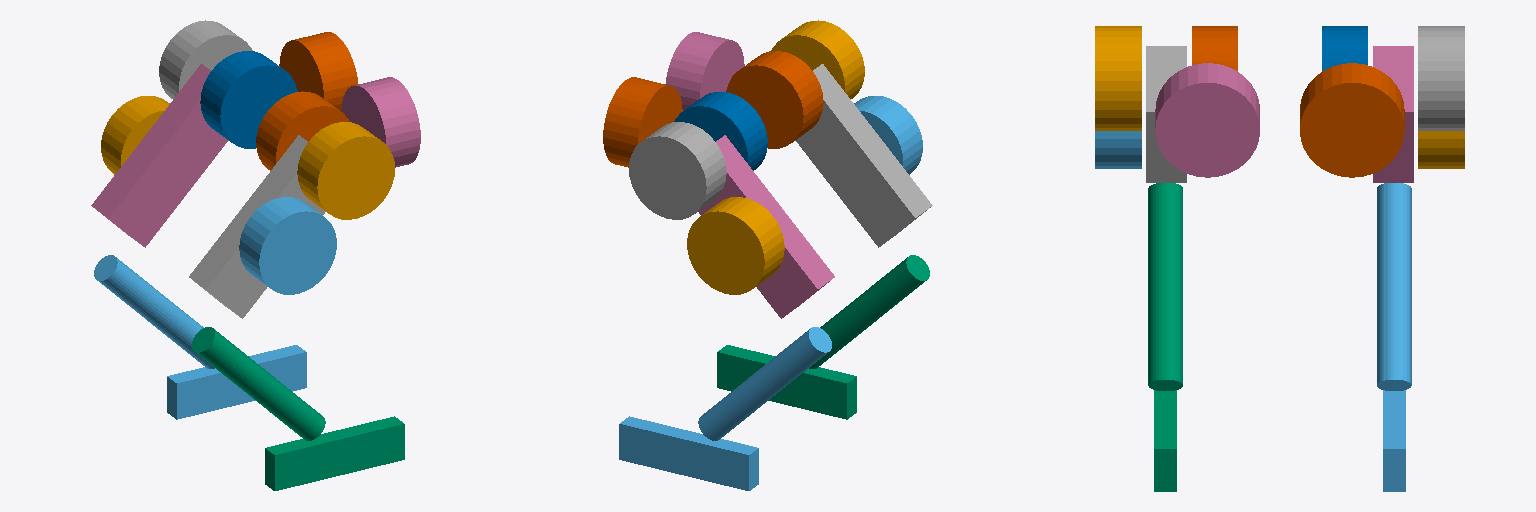
The robot description file, URDF, robot "mvsc_reduced":
<?xml version="1.0" encoding="UTF-8"?>
<robot name="mvsc_reduced">
  <mujoco>
    <compiler meshdir="./meshes/" discardvisual="false"/>
  </mujoco>
  <joint name="l_ankle_joint" type="revolute">
    <origin xyz="0. 0. -0.22" rpy="0. 0.7853982 0. "/>
    <parent link="l_calf"/>
    <child link="l_toe"/>
    <axis xyz="0. 1. 0."/>
    <limit lower="-1.5707963" upper="0.7853982" effort="33.5" velocity="21.000001"/>
  </joint>
  <joint name="l_hip1_trans_joint" type="fixed">
    <origin xyz="0.079 0.015 -0.0705" rpy="0. 0. 0."/>
    <parent link="l_hip"/>
    <child link="l_hip_trans"/>
  </joint>
  <joint name="l_hip2_trans_joint" type="fixed">
    <origin xyz="-0.06 -0.015 0. " rpy="0. 0. 0."/>
    <parent link="l_hip2"/>
    <child link="l_hip2_trans"/>
  </joint>
  <joint name="l_hip_pitch_joint" type="revolute">
    <origin xyz="-0.06 0.018 0. " rpy="0. 0.7853982 0. "/>
    <parent link="l_hip2"/>
    <child link="l_thigh"/>
    <axis xyz="0. 1. 0."/>
    <limit lower="-1.0471976" upper="1.134464" effort="33.5" velocity="21.000001"/>
  </joint>
  <joint name="l_hip_roll_joint" type="revolute">
    <origin xyz="0.0465 0.015 -0.0705" rpy="0. 0. 0."/>
    <parent link="l_hip"/>
    <child link="l_hip2"/>
    <axis xyz="1. 0. 0."/>
    <limit lower="-0.7853982" upper="0.7853982" effort="33.5" velocity="21.000001"/>
  </joint>
  <joint name="l_hip_yaw_joint" type="revolute">
    <origin xyz="0. 0.047 -0.1265" rpy="0. 0. 0."/>
    <parent link="torso"/>
    <child link="l_hip"/>
    <axis xyz="0. 0. 1."/>
    <limit lower="-0.7853982" upper="0.7853982" effort="33.5" velocity="21.000001"/>
  </joint>
  <joint name="l_knee_joint" type="revolute">
    <origin xyz="0. 0.018 -0.22 " rpy="0. -1.5707963 0. "/>
    <parent link="l_thigh"/>
    <child link="l_calf"/>
    <axis xyz="0. 1. 0."/>
    <limit lower="-0.8726646" upper="1.7453293" effort="67." velocity="10.5000037"/>
  </joint>
  <joint name="l_thigh1_trans_joint" type="fixed">
    <origin xyz="0. 0.037 0. " rpy="0. 0. 0."/>
    <parent link="l_thigh"/>
    <child link="l_thigh1_trans"/>
  </joint>
  <joint name="l_thigh2_trans_joint" type="fixed">
    <origin xyz="0. 0.037 -0.095" rpy="0. 0. 0."/>
    <parent link="l_thigh"/>
    <child link="l_thigh2_trans"/>
  </joint>
  <joint name="r_ankle_joint" type="revolute">
    <origin xyz="0. 0. -0.22" rpy="0. 0.7853982 0. "/>
    <parent link="r_calf"/>
    <child link="r_toe"/>
    <axis xyz="0. 1. 0."/>
    <limit lower="-1.5707963" upper="0.7853982" effort="33.5" velocity="21.000001"/>
  </joint>
  <joint name="r_hip1_trans_joint" type="fixed">
    <origin xyz="0.079 -0.015 -0.0705" rpy="0. 0. 0."/>
    <parent link="r_hip"/>
    <child link="r_hip_trans"/>
  </joint>
  <joint name="r_hip2_trans_joint" type="fixed">
    <origin xyz="-0.06 0.015 0. " rpy="0. 0. 0."/>
    <parent link="r_hip2"/>
    <child link="r_hip2_trans"/>
  </joint>
  <joint name="r_hip_pitch_joint" type="revolute">
    <origin xyz="-0.06 -0.018 0. " rpy="0. 0.7853982 0. "/>
    <parent link="r_hip2"/>
    <child link="r_thigh"/>
    <axis xyz="0. 1. 0."/>
    <limit lower="-1.0471976" upper="1.134464" effort="33.5" velocity="21.000001"/>
  </joint>
  <joint name="r_hip_roll_joint" type="revolute">
    <origin xyz="0.0465 -0.015 -0.0705" rpy="0. 0. 0."/>
    <parent link="r_hip"/>
    <child link="r_hip2"/>
    <axis xyz="1. 0. 0."/>
    <limit lower="-0.7853982" upper="0.7853982" effort="33.5" velocity="21.000001"/>
  </joint>
  <joint name="r_hip_yaw_joint" type="revolute">
    <origin xyz="0. -0.047 -0.1265" rpy="0. 0. 0."/>
    <parent link="torso"/>
    <child link="r_hip"/>
    <axis xyz="0. 0. 1."/>
    <limit lower="-0.7853982" upper="0.7853982" effort="33.5" velocity="21.000001"/>
  </joint>
  <joint name="r_knee_joint" type="revolute">
    <origin xyz="0. -0.018 -0.22 " rpy="0. -1.5707963 0. "/>
    <parent link="r_thigh"/>
    <child link="r_calf"/>
    <axis xyz="0. 1. 0."/>
    <limit lower="-0.8726646" upper="1.7453293" effort="67." velocity="10.5000037"/>
  </joint>
  <joint name="r_thigh1_trans_joint" type="fixed">
    <origin xyz="0. -0.037 0. " rpy="0. 0. 0."/>
    <parent link="r_thigh"/>
    <child link="r_thigh1_trans"/>
  </joint>
  <joint name="r_thigh2_trans_joint" type="fixed">
    <origin xyz="0. -0.037 -0.095" rpy="0. 0. 0."/>
    <parent link="r_thigh"/>
    <child link="r_thigh2_trans"/>
  </joint>
  <link name="torso">
    <inertial>
      <origin xyz="0. 0. 0." rpy="0. 0. 0."/>
      <mass value="1.0"/>
      <inertia ixx="0.008133666666666666" ixy="0." ixz="0." iyy="0.006427416666666666" iyz="0." izz="0.004310416666666666"/>
    </inertial>
    <visual>
      <origin xyz="0. 0. 0." rpy="0. 0. 0."/>
      <geometry>
        <mesh filename="meshes/base_visuals.obj" scale="1. 1. 1."/>
      </geometry>
    </visual>
    <collision>
      <origin xyz="0. 0. 0." rpy="0. 0. 0."/>
      <geometry>
        <mesh filename="meshes/base_visuals.obj" scale="1. 1. 1."/>
      </geometry>
    </collision>
  </link>
  <link name="l_calf">
    <inertial>
      <origin xyz="0. 0. 0." rpy="0. 0. 0."/>
      <mass value="0.177"/>
      <inertia ixx="0.000529407" ixy="0." ixz="0." iyy="0.000529407" iyz="0." izz="3.823200000000001e-05"/>
    </inertial>
    <visual>
      <origin xyz="0. 0.01743 0. " rpy="0. 0. 0."/>
      <geometry>
        <mesh filename="meshes/l_calf_visuals.obj" scale="1. 1. 1."/>
      </geometry>
    </visual>
    <visual>
      <origin xyz="0. 0. -0.11" rpy="0. 0. 0."/>
      <geometry>
        <cylinder radius="0.015" length="0.18"/>
      </geometry>
    </visual>
    <collision>
      <origin xyz="0. 0. -0.11" rpy="0. 0. 0."/>
      <geometry>
        <cylinder radius="0.015" length="0.18"/>
      </geometry>
    </collision>
  </link>
  <link name="l_hip">
    <inertial>
      <origin xyz="0. 0. 0." rpy="0. 0. 0."/>
      <mass value="0.224"/>
      <inertia ixx="1.6464000000000047e-07" ixy="0." ixz="0." iyy="1.6464000000000058e-07" iyz="0." izz="1.6464000000000058e-07"/>
    </inertial>
    <visual>
      <origin xyz="0. 0. 0." rpy="0. 0. 0."/>
      <geometry>
        <mesh filename="meshes/l_hip_visuals.obj" scale="1. 1. 1."/>
      </geometry>
    </visual>
    <visual>
      <origin xyz="0.015 0. -0.002" rpy="0. 0. 0."/>
      <geometry>
        <box size="0.0001 0.0001 0.0001"/>
      </geometry>
    </visual>
    <collision>
      <origin xyz="0.015 0. -0.002" rpy="0. 0. 0."/>
      <geometry>
        <box size="0.0001 0.0001 0.0001"/>
      </geometry>
    </collision>
  </link>
  <link name="l_hip2">
    <inertial>
      <origin xyz="0. 0. 0." rpy="0. 0. 0."/>
      <mass value="0.095"/>
      <inertia ixx="6.396824999999976e-08" ixy="0." ixz="0." iyy="6.396825000000025e-08" iyz="0." izz="6.396825000000025e-08"/>
    </inertial>
    <visual>
      <origin xyz="0. 0. 0." rpy="0. 0. 0."/>
      <geometry>
        <mesh filename="meshes/l_hip2_visuals.obj" scale="1. 1. 1."/>
      </geometry>
    </visual>
    <visual>
      <origin xyz="-0.1 0. -0.0000692" rpy="0. 0. 0."/>
      <geometry>
        <box size="0.00001 0.00001 0.00001"/>
      </geometry>
    </visual>
    <collision>
      <origin xyz="-0.1 0. -0.0000692" rpy="0. 0. 0."/>
      <geometry>
        <box size="0.00001 0.00001 0.00001"/>
      </geometry>
    </collision>
  </link>
  <link name="l_hip2_trans">
    <inertial>
      <origin xyz="0. 0. 0." rpy="0. 0. 0."/>
      <mass value="0.605"/>
      <inertia ixx="0.0005713217297638535" ixy="0." ixz="0." iyy="0.0009292800311795158" iyz="0." izz="0.0005713216985843377"/>
    </inertial>
    <visual>
      <origin xyz="0. 0.0086736 0. " rpy="-1.5707964 0. 0. "/>
      <geometry>
        <cylinder radius="0.045" length="0.04"/>
      </geometry>
    </visual>
    <collision>
      <origin xyz="0. 0.0086736 0. " rpy="-1.5707964 0. 0. "/>
      <geometry>
        <cylinder radius="0.045" length="0.04"/>
      </geometry>
    </collision>
  </link>
  <link name="l_hip_trans">
    <inertial>
      <origin xyz="0. 0. 0." rpy="0. 0. 0."/>
      <mass value="0.605"/>
      <inertia ixx="0.0009292800114124822" ixy="0." ixz="0." iyy="0.0005713216897618133" iyz="0." izz="0.0005713216783493311"/>
    </inertial>
    <visual>
      <origin xyz="-0.0081887 0. 0. " rpy="0. 1.5707963 0. "/>
      <geometry>
        <cylinder radius="0.045" length="0.04"/>
      </geometry>
    </visual>
    <collision>
      <origin xyz="-0.0081887 0. 0. " rpy="0. 1.5707963 0. "/>
      <geometry>
        <cylinder radius="0.045" length="0.04"/>
      </geometry>
    </collision>
  </link>
  <link name="l_thigh">
    <inertial>
      <origin xyz="0. 0. 0." rpy="0. 0. 0."/>
      <mass value="0.321"/>
      <inertia ixx="0.0009226877500000001" ixy="0." ixz="0." iyy="0.000988894" iyz="0." izz="0.00013944775000000002"/>
    </inertial>
    <visual>
      <origin xyz="0. 0. 0." rpy="0. 0. 0."/>
      <geometry>
        <mesh filename="meshes/l_thigh_visuals.obj" scale="1. 1. 1."/>
      </geometry>
    </visual>
    <visual>
      <origin xyz="0. 0.0175 -0.09 " rpy="0. 0. 0."/>
      <geometry>
        <box size="0.06 0.035 0.18 "/>
      </geometry>
    </visual>
    <collision>
      <origin xyz="0. 0.0175 -0.09 " rpy="0. 0. 0."/>
      <geometry>
        <box size="0.06 0.035 0.18 "/>
      </geometry>
    </collision>
  </link>
  <link name="l_thigh1_trans">
    <inertial>
      <origin xyz="0. 0. 0." rpy="0. 0. 0."/>
      <mass value="0.605"/>
      <inertia ixx="0.0005713217297638535" ixy="0." ixz="0." iyy="0.0009292800311795158" iyz="0." izz="0.0005713216985843377"/>
    </inertial>
    <visual>
      <origin xyz="0. 0.02142 0. " rpy="-1.5707964 0. 0. "/>
      <geometry>
        <cylinder radius="0.045" length="0.04"/>
      </geometry>
    </visual>
    <collision>
      <origin xyz="0. 0.02142 0. " rpy="-1.5707964 0. 0. "/>
      <geometry>
        <cylinder radius="0.045" length="0.04"/>
      </geometry>
    </collision>
  </link>
  <link name="l_thigh2_trans">
    <inertial>
      <origin xyz="0. 0. 0." rpy="0. 0. 0."/>
      <mass value="0.605"/>
      <inertia ixx="0.0005713217297638535" ixy="0." ixz="0." iyy="0.0009292800311795158" iyz="0." izz="0.0005713216985843377"/>
    </inertial>
    <visual>
      <origin xyz="0. 0.02142 0. " rpy="-1.5707964 0. 0. "/>
      <geometry>
        <cylinder radius="0.045" length="0.04"/>
      </geometry>
    </visual>
    <collision>
      <origin xyz="0. 0.02142 0. " rpy="-1.5707964 0. 0. "/>
      <geometry>
        <cylinder radius="0.045" length="0.04"/>
      </geometry>
    </collision>
  </link>
  <link name="l_toe">
    <inertial>
      <origin xyz="0. 0. 0." rpy="0. 0. 0."/>
      <mass value="0.117"/>
      <inertia ixx="2.1918000000000003e-05" ixy="0." ixz="0." iyy="0.000242463" iyz="0." izz="0.000229983"/>
    </inertial>
    <visual>
      <origin xyz="0.0000314 -0.011948 -0.0454603" rpy="0. 0. 0."/>
      <geometry>
        <mesh filename="meshes/l_toe_visuals.obj" scale="1. 1. 1."/>
      </geometry>
    </visual>
    <visual>
      <origin xyz="0.01 0. -0.02" rpy="0. 0. 0."/>
      <geometry>
        <box size="0.15 0.02 0.04"/>
      </geometry>
    </visual>
    <collision>
      <origin xyz="0.01 0. -0.02" rpy="0. 0. 0."/>
      <geometry>
        <box size="0.15 0.02 0.04"/>
      </geometry>
    </collision>
  </link>
  <link name="r_calf">
    <inertial>
      <origin xyz="0. 0. 0." rpy="0. 0. 0."/>
      <mass value="0.177"/>
      <inertia ixx="0.000529407" ixy="0." ixz="0." iyy="0.000529407" iyz="0." izz="3.823200000000001e-05"/>
    </inertial>
    <visual>
      <origin xyz="0. 0.01743 0. " rpy="0. 0. 0."/>
      <geometry>
        <mesh filename="meshes/r_calf_visuals.obj" scale="1. 1. 1."/>
      </geometry>
    </visual>
    <visual>
      <origin xyz="0. 0. -0.11" rpy="0. 0. 0."/>
      <geometry>
        <cylinder radius="0.015" length="0.18"/>
      </geometry>
    </visual>
    <collision>
      <origin xyz="0. 0. -0.11" rpy="0. 0. 0."/>
      <geometry>
        <cylinder radius="0.015" length="0.18"/>
      </geometry>
    </collision>
  </link>
  <link name="r_hip">
    <inertial>
      <origin xyz="0. 0. 0." rpy="0. 0. 0."/>
      <mass value="0.224"/>
      <inertia ixx="1.6464000000000047e-07" ixy="0." ixz="0." iyy="1.6464000000000058e-07" iyz="0." izz="1.6464000000000058e-07"/>
    </inertial>
    <visual>
      <origin xyz="0. 0. 0." rpy="0. 0. 0."/>
      <geometry>
        <mesh filename="meshes/r_hip_visuals.obj" scale="1. 1. 1."/>
      </geometry>
    </visual>
    <visual>
      <origin xyz="0.015 0. -0.002" rpy="0. 0. 0."/>
      <geometry>
        <box size="0.0001 0.0001 0.0001"/>
      </geometry>
    </visual>
    <collision>
      <origin xyz="0.015 0. -0.002" rpy="0. 0. 0."/>
      <geometry>
        <box size="0.0001 0.0001 0.0001"/>
      </geometry>
    </collision>
  </link>
  <link name="r_hip2">
    <inertial>
      <origin xyz="0. 0. 0." rpy="0. 0. 0."/>
      <mass value="0.095"/>
      <inertia ixx="6.396824999999976e-08" ixy="0." ixz="0." iyy="6.396825000000025e-08" iyz="0." izz="6.396825000000025e-08"/>
    </inertial>
    <visual>
      <origin xyz="0. 0. 0." rpy="0. 0. 0."/>
      <geometry>
        <mesh filename="meshes/r_hip2_visuals.obj" scale="1. 1. 1."/>
      </geometry>
    </visual>
    <visual>
      <origin xyz="-0.1 0. 0. " rpy="0. 0. 0."/>
      <geometry>
        <box size="0.00001 0.00001 0.00001"/>
      </geometry>
    </visual>
    <collision>
      <origin xyz="-0.1 0. 0. " rpy="0. 0. 0."/>
      <geometry>
        <box size="0.00001 0.00001 0.00001"/>
      </geometry>
    </collision>
  </link>
  <link name="r_hip2_trans">
    <inertial>
      <origin xyz="0. 0. 0." rpy="0. 0. 0."/>
      <mass value="0.605"/>
      <inertia ixx="0.0005713217297638535" ixy="0." ixz="0." iyy="0.0009292800311795158" iyz="0." izz="0.0005713216985843377"/>
    </inertial>
    <visual>
      <origin xyz="0. -0.00867 0. " rpy="-1.5707964 0. 0. "/>
      <geometry>
        <cylinder radius="0.045" length="0.04"/>
      </geometry>
    </visual>
    <collision>
      <origin xyz="0. -0.00867 0. " rpy="-1.5707964 0. 0. "/>
      <geometry>
        <cylinder radius="0.045" length="0.04"/>
      </geometry>
    </collision>
  </link>
  <link name="r_hip_trans">
    <inertial>
      <origin xyz="0. 0. 0." rpy="0. 0. 0."/>
      <mass value="0.605"/>
      <inertia ixx="0.0009292800114124822" ixy="0." ixz="0." iyy="0.0005713216897618133" iyz="0." izz="0.0005713216783493311"/>
    </inertial>
    <visual>
      <origin xyz="-0.00819 0. 0. " rpy="0. 1.5707963 0. "/>
      <geometry>
        <cylinder radius="0.045" length="0.04"/>
      </geometry>
    </visual>
    <collision>
      <origin xyz="-0.00819 0. 0. " rpy="0. 1.5707963 0. "/>
      <geometry>
        <cylinder radius="0.045" length="0.04"/>
      </geometry>
    </collision>
  </link>
  <link name="r_thigh">
    <inertial>
      <origin xyz="0. 0. 0." rpy="0. 0. 0."/>
      <mass value="0.321"/>
      <inertia ixx="0.0009226877500000001" ixy="0." ixz="0." iyy="0.000988894" iyz="0." izz="0.00013944775000000002"/>
    </inertial>
    <visual>
      <origin xyz="0. 0. 0." rpy="0. 0. 0."/>
      <geometry>
        <mesh filename="meshes/r_thigh_visuals.obj" scale="1. 1. 1."/>
      </geometry>
    </visual>
    <visual>
      <origin xyz="0. -0.0175 -0.09 " rpy="0. 0. 0."/>
      <geometry>
        <box size="0.06 0.035 0.18 "/>
      </geometry>
    </visual>
    <collision>
      <origin xyz="0. -0.0175 -0.09 " rpy="0. 0. 0."/>
      <geometry>
        <box size="0.06 0.035 0.18 "/>
      </geometry>
    </collision>
  </link>
  <link name="r_thigh1_trans">
    <inertial>
      <origin xyz="0. 0. 0." rpy="0. 0. 0."/>
      <mass value="0.605"/>
      <inertia ixx="0.0005713217297638535" ixy="0." ixz="0." iyy="0.0009292800311795158" iyz="0." izz="0.0005713216985843377"/>
    </inertial>
    <visual>
      <origin xyz="0. -0.0214229 0. " rpy="-1.5707964 0. 0. "/>
      <geometry>
        <cylinder radius="0.045" length="0.04"/>
      </geometry>
    </visual>
    <collision>
      <origin xyz="0. -0.0214229 0. " rpy="-1.5707964 0. 0. "/>
      <geometry>
        <cylinder radius="0.045" length="0.04"/>
      </geometry>
    </collision>
  </link>
  <link name="r_thigh2_trans">
    <inertial>
      <origin xyz="0. 0. 0." rpy="0. 0. 0."/>
      <mass value="0.605"/>
      <inertia ixx="0.0005713217297638535" ixy="0." ixz="0." iyy="0.0009292800311795158" iyz="0." izz="0.0005713216985843377"/>
    </inertial>
    <visual>
      <origin xyz="0. -0.02142 0. " rpy="-1.5707964 0. 0. "/>
      <geometry>
        <cylinder radius="0.045" length="0.04"/>
      </geometry>
    </visual>
    <collision>
      <origin xyz="0. -0.02142 0. " rpy="-1.5707964 0. 0. "/>
      <geometry>
        <cylinder radius="0.045" length="0.04"/>
      </geometry>
    </collision>
  </link>
  <link name="r_toe">
    <inertial>
      <origin xyz="0. 0. 0." rpy="0. 0. 0."/>
      <mass value="0.117"/>
      <inertia ixx="2.1918000000000003e-05" ixy="0." ixz="0." iyy="0.000242463" iyz="0." izz="0.000229983"/>
    </inertial>
    <visual>
      <origin xyz="0.00003 -0.01195 -0.04546" rpy="0. 0. 0."/>
      <geometry>
        <mesh filename="meshes/r_toe_visuals.obj" scale="1. 1. 1."/>
      </geometry>
    </visual>
    <visual>
      <origin xyz="0.01 0. -0.02" rpy="0. 0. 0."/>
      <geometry>
        <box size="0.15 0.02 0.04"/>
      </geometry>
    </visual>
    <collision>
      <origin xyz="0.01 0. -0.02" rpy="0. 0. 0."/>
      <geometry>
        <box size="0.15 0.02 0.04"/>
      </geometry>
    </collision>
  </link>

</robot>

--- What the picture shows (computed from the rendered views, not written in the file) ---
The picture shows the robot from 3 angles, left to right: view 1: azimuth 30°, elevation 25°; view 2: azimuth 150°, elevation 25°; view 3: azimuth 270°, elevation 25°; orthographic projection.
Robot: mvsc_reduced — 19 links, 18 joints (10 revolute, 8 fixed); root link torso; default pose: every joint at zero.
Links seen in each view (by area): view 1: l_thigh, r_thigh1_trans, r_thigh2_trans, r_toe, l_hip2_trans, r_thigh, r_calf, l_toe, r_hip_trans, l_hip_trans, l_calf, r_hip2_trans (+2 smaller); view 2: r_thigh, l_thigh1_trans, l_thigh2_trans, l_toe, r_hip2_trans, l_thigh, l_calf, r_toe, l_hip_trans, r_hip_trans, r_calf, l_hip2_trans (+2 smaller); view 3: l_hip_trans, r_hip_trans, l_calf, r_calf, l_thigh1_trans, r_thigh1_trans, l_thigh, r_thigh, l_toe, r_toe, l_hip2_trans, r_hip2_trans (+2 smaller).
Link boxes in pixels (x1,y1,x2,y2): l_thigh: [91, 64, 228, 247]; r_thigh1_trans: [297, 122, 394, 219]; r_thigh2_trans: [239, 197, 336, 294]; r_toe: [265, 416, 404, 490]; l_hip2_trans: [200, 51, 297, 148]; r_thigh: [189, 135, 325, 318]; r_calf: [192, 327, 325, 440]; l_toe: [167, 345, 306, 419]; r_hip_trans: [341, 77, 420, 167]; l_hip_trans: [279, 32, 358, 110]; l_calf: [94, 255, 214, 368]; r_hip2_trans: [256, 91, 349, 170]; r_thigh: [795, 64, 932, 247]; l_thigh1_trans: [629, 122, 726, 219]; l_thigh2_trans: [687, 197, 784, 294]; l_toe: [619, 416, 758, 490]; r_hip2_trans: [726, 51, 823, 148]; l_thigh: [698, 135, 834, 318]; l_calf: [698, 327, 831, 440]; r_toe: [717, 345, 856, 419]; l_hip_trans: [603, 77, 682, 167]; r_hip_trans: [665, 32, 744, 110]; r_calf: [809, 255, 929, 368]; l_hip2_trans: [674, 91, 767, 170]; l_hip_trans: [1300, 63, 1404, 177]; r_hip_trans: [1155, 63, 1259, 177]; l_calf: [1377, 183, 1411, 390]; r_calf: [1148, 183, 1182, 390]; l_thigh1_trans: [1418, 26, 1464, 130]; r_thigh1_trans: [1095, 26, 1141, 130]; l_thigh: [1373, 46, 1413, 182]; r_thigh: [1146, 46, 1186, 182]; l_toe: [1383, 390, 1405, 491]; r_toe: [1154, 390, 1176, 491]; l_hip2_trans: [1322, 26, 1367, 70]; r_hip2_trans: [1192, 26, 1237, 70].
Bounding box of the posed robot: 0.2563 × 0.3168 × 0.4197 m (x, y, z).
Meshes: 11 distinct files referenced, 0 mesh visuals loaded (none loaded); not drawn: 5 (reference not matched to a file when rendering), 6 (file found but could not be loaded).
